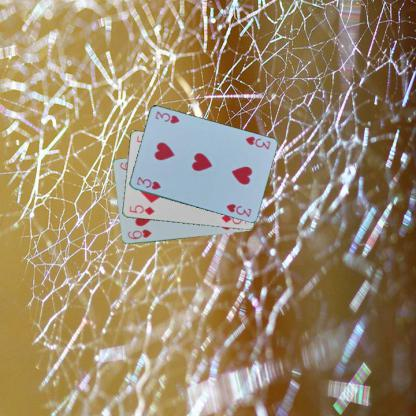3h: (242, 134, 272, 151), (134, 174, 162, 191)
5d: (127, 203, 156, 217)
6h: (125, 227, 152, 240)
